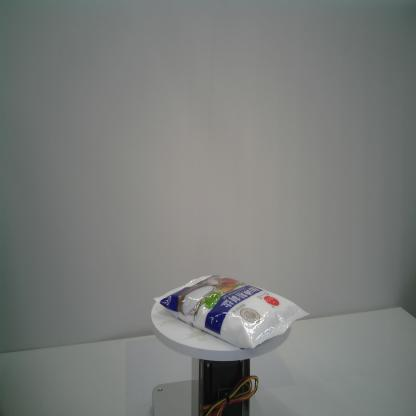Seasoner: (154, 274, 310, 349)
